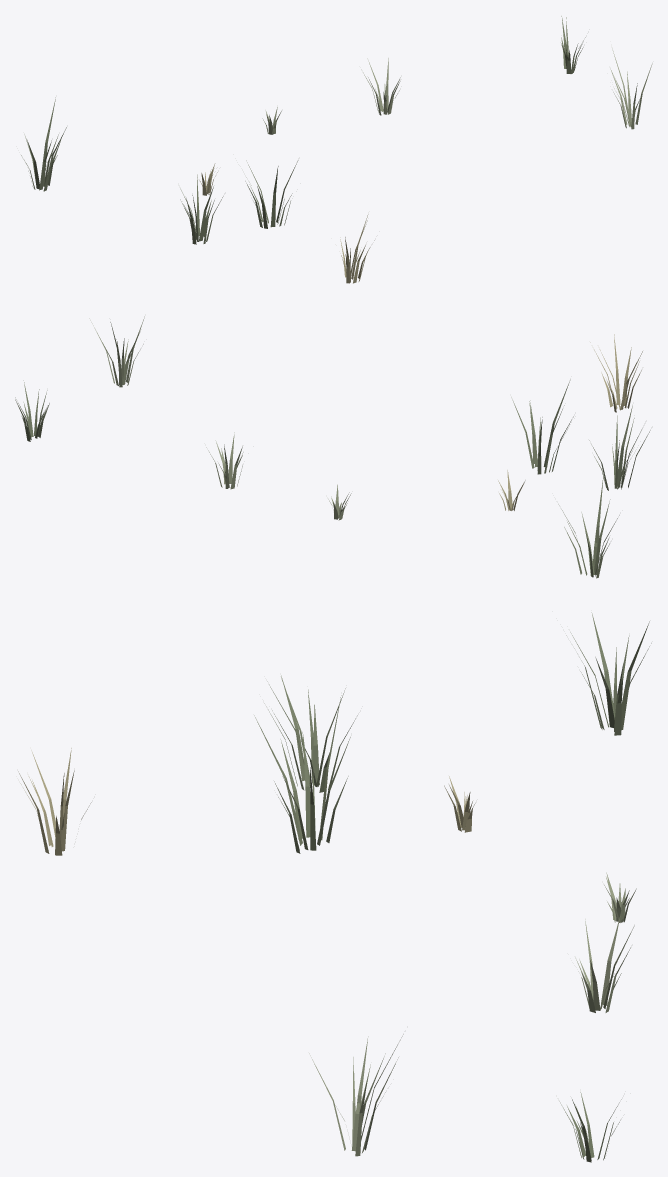
File: AE_Grass_4_-2.fbx
3 views of the same model, one above another, from view 1: azimuth 30°, elevation 25°; view 2: azimuth 150°, elevation 25°; view 3: azimuth 270°, elevation 25° (orthographic). The views are drawn at different scales.
Parts seen in each view (by area): view 1: AE_Grass_4_-2_LOD0; view 2: AE_Grass_4_-2_LOD0; view 3: AE_Grass_4_-2_LOD0.
Part boxes in pixels (x1,y1,x2,y2): AE_Grass_4_-2_LOD0: (21,16,652,283); AE_Grass_4_-2_LOD0: (15,316,650,578); AE_Grass_4_-2_LOD0: (18,612,651,1162).
Size of what is drawn, in the model's own units: 715 by 104 by 428.
